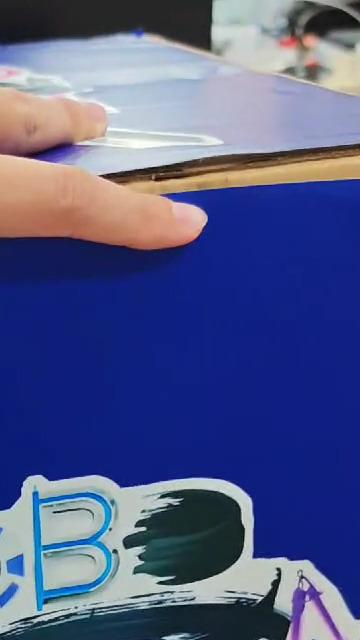B_R1: (0, 473, 359, 640)
